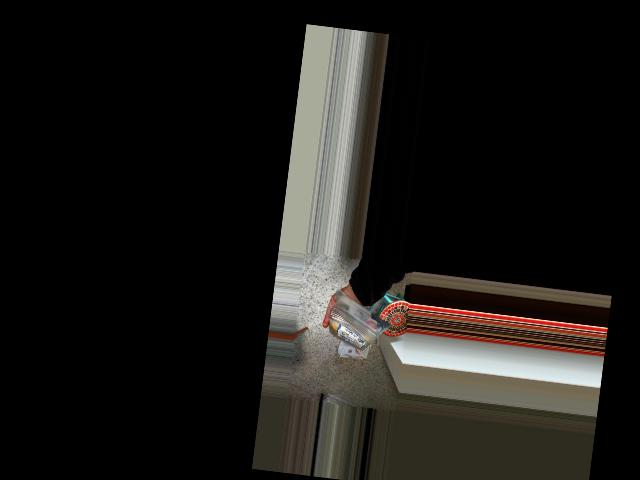cheese: (336, 299, 371, 366)
